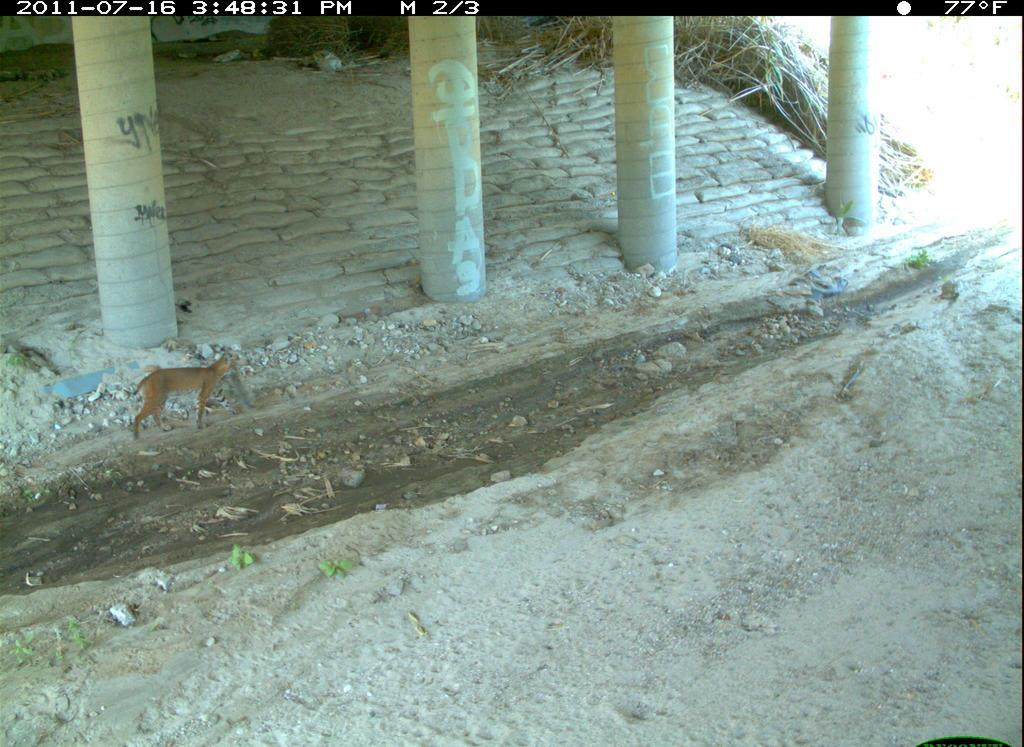bobcat: (249, 695, 490, 747)
rabbit: (452, 738, 520, 747)
